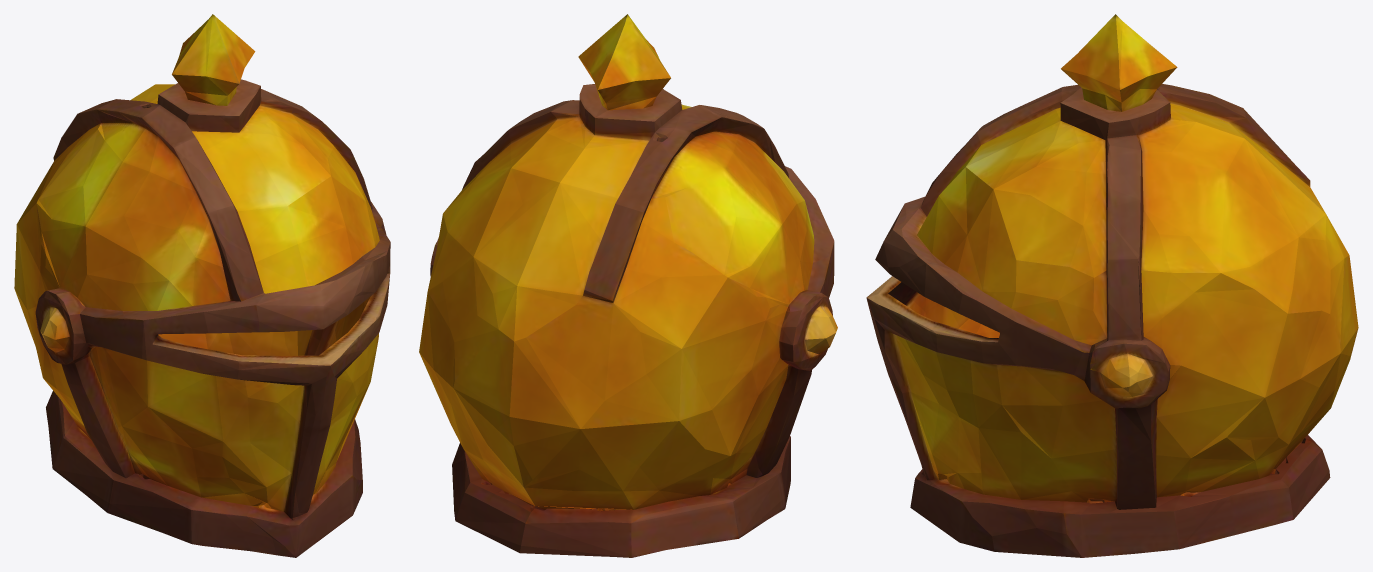
Rendered from ambre_casque.glb.
3 views of the same model, side by side, from view 1: azimuth 30°, elevation 25°; view 2: azimuth 150°, elevation 25°; view 3: azimuth 270°, elevation 25° (orthographic). The views are drawn at different scales.
Visible parts, largest first — view 1: geometry_0; view 2: geometry_0; view 3: geometry_0.
Boxes of the visible parts, x1,y1,x2,y2 form: geometry_0: (14, 14, 390, 557); geometry_0: (419, 14, 837, 557); geometry_0: (866, 14, 1358, 557).
Size of the model in its own units: 0.7959 by 0.9934 by 0.8852.
1 material, 1 textured.
